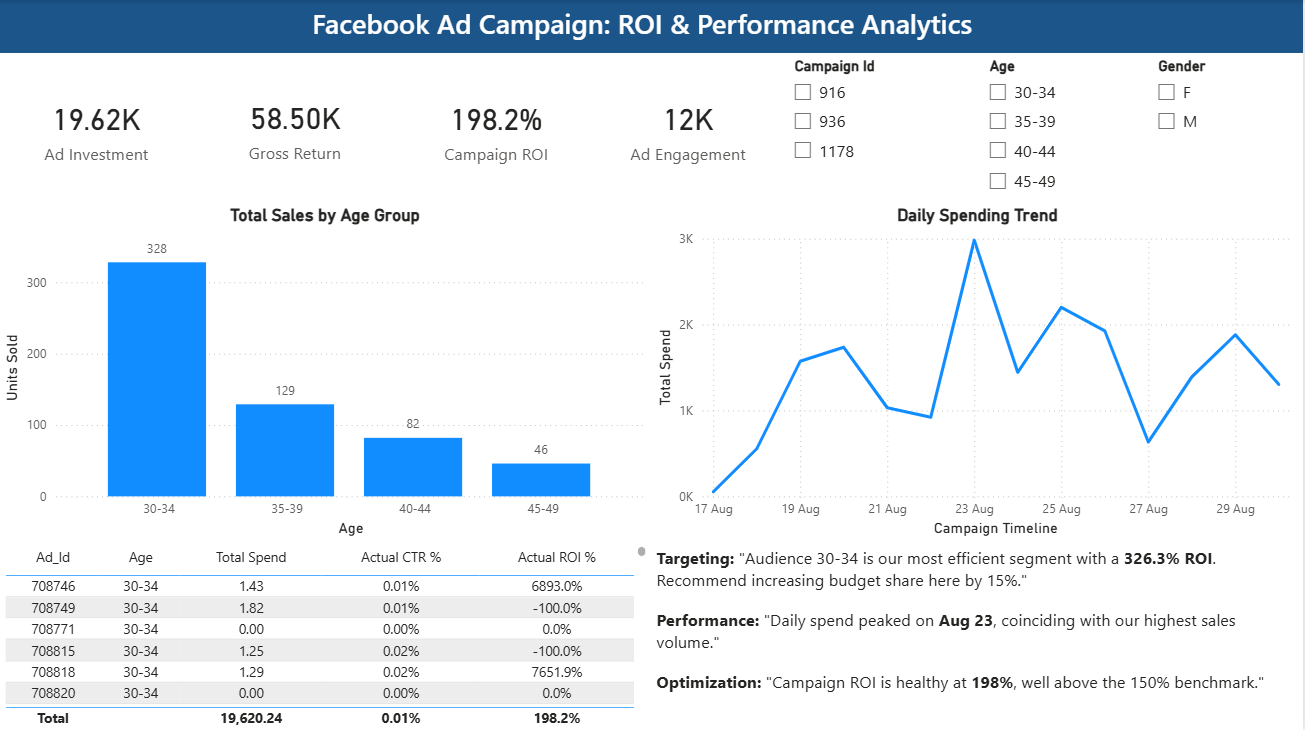

Layout of this report page (visuals, bound fields, positions):
{"tool":"powerbi","page":{"name":"Page 1","canvas":[1280,720],"ordinal":0},"visuals":[{"type":"card","fields":{"Values":["Table1.Total Spend"]},"box":[0,51.4,191.4,150],"z":0},{"type":"card","fields":{"Values":["Table1.Total Revenue"]},"box":[191.7,50.8,198.3,151.2],"z":1000},{"type":"card","fields":{"Values":["Table1.Actual ROI %"]},"box":[390,52,196,150],"z":2000},{"type":"tableEx","fields":{"Values":["Table1.ad_id","Table1.age","Table1.Total Spend","Table1.Actual CTR %","Table1.Actual ROI %"]},"box":[0,531.7,640,188.3],"z":3000},{"type":"slicer","fields":{"Values":["Table1.age"]},"box":[960,51.7,165,150],"z":4000},{"type":"slicer","fields":{"Values":["Table1.gender"]},"box":[1125,51.9,155,149.4],"z":5000},{"type":"clusteredColumnChart","title":"Total Sales by Age Group","fields":{"Category":["Table1.age"],"Y":["Sum(Table1.approved_conversion)"]},"box":[0,201.7,640,330],"z":6000},{"type":"lineChart","title":"Daily Spending Trend","fields":{"Y":["Table1.Total Spend"],"Category":["Table1.reporting_start"]},"box":[640,201.7,640,330],"z":7000},{"type":"card","fields":{"Values":["Table1.Total Clicks"]},"box":[585.8,50,182.5,151.7],"z":8000},{"type":"slicer","fields":{"Values":["Table1.campaign_id"]},"box":[768.3,51.7,190,150],"z":9000},{"type":"shape","box":[0,0,1280,52],"z":10000},{"type":"textbox","box":[100,0,1064,54],"z":11000},{"type":"textbox","box":[640,531.7,640,188.3],"z":12000}]}

Visuals, with their boxes in screenshot pixels (x1, y1, x2, y2), scaled from the page's 1280x720 canvas onto the 1305x730 screenshot:
card - Table1.Total Spend: select_region(0, 52, 195, 204)
card - Table1.Total Revenue: select_region(195, 52, 398, 205)
card - Table1.Actual ROI %: select_region(398, 53, 597, 205)
tableEx - Table1.ad_id x Table1.age: select_region(0, 539, 652, 729)
slicer - Table1.age: select_region(979, 52, 1147, 205)
slicer - Table1.gender: select_region(1147, 53, 1304, 204)
"Total Sales by Age Group" clusteredColumnChart: select_region(0, 205, 652, 539)
"Daily Spending Trend" lineChart: select_region(652, 205, 1304, 539)
card - Table1.Total Clicks: select_region(597, 51, 783, 205)
slicer - Table1.campaign_id: select_region(783, 52, 977, 205)
shape: select_region(0, 0, 1304, 53)
textbox: select_region(102, 0, 1187, 55)
textbox: select_region(652, 539, 1304, 729)
